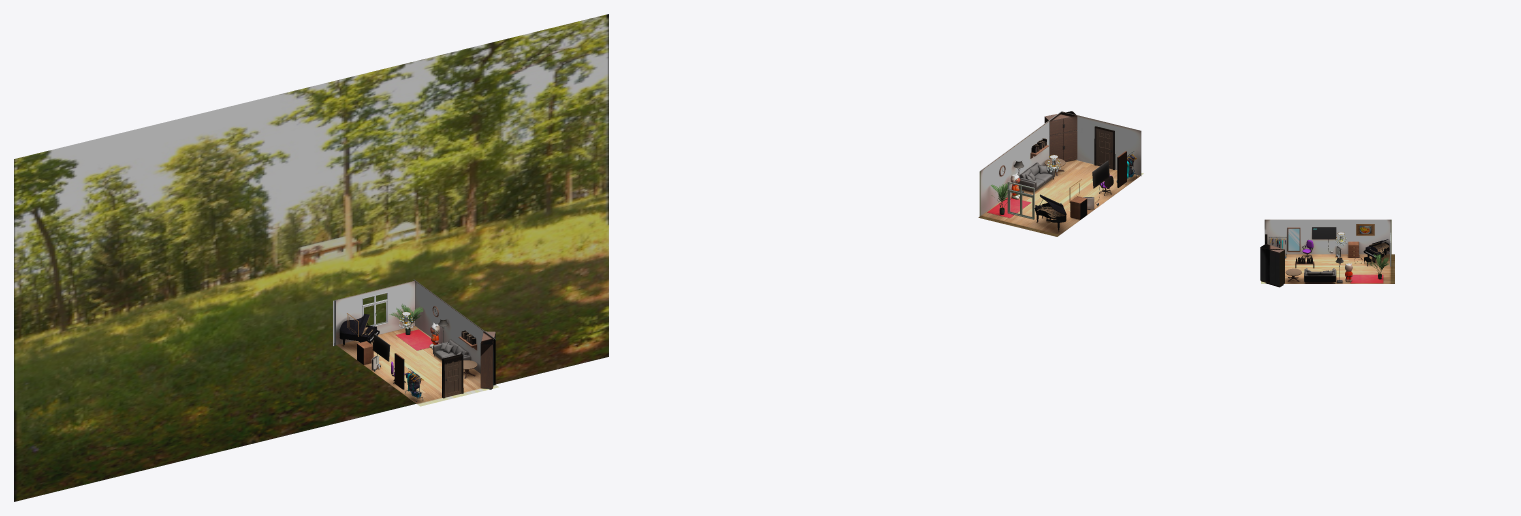
The model's file is Space_3d_room.glb.
3 renders of one model, left to right at view 1: azimuth 30°, elevation 25°; view 2: azimuth 150°, elevation 25°; view 3: azimuth 270°, elevation 25°, orthographic. The views are drawn at different scales.
Parts seen in each view (by area): view 1: forest, floor, wall2, wall4, Door, closet1, piano; view 2: floor, wall2, wall5, closet1, Door, sofa2; view 3: wall1, floor, closet1, piano, sofa2, mirror1, TV, Carpet1.
Part boxes in pixels (x1=…): forest: x1=14, y1=14, x2=608, y2=501; floor: x1=336, y1=326, x2=498, y2=406; wall2: x1=413, y1=279, x2=495, y2=384; wall4: x1=333, y1=281, x2=414, y2=345; Door: x1=442, y1=354, x2=463, y2=398; closet1: x1=480, y1=331, x2=495, y2=389; piano: x1=339, y1=313, x2=379, y2=346; floor: x1=978, y1=160, x2=1143, y2=236; wall2: x1=979, y1=111, x2=1061, y2=216; wall5: x1=1061, y1=111, x2=1141, y2=175; closet1: x1=1044, y1=111, x2=1077, y2=161; Door: x1=1094, y1=126, x2=1115, y2=169; sofa2: x1=1019, y1=162, x2=1054, y2=191; wall1: x1=1264, y1=219, x2=1391, y2=254; floor: x1=1261, y1=254, x2=1394, y2=283; closet1: x1=1260, y1=244, x2=1284, y2=287; piano: x1=1363, y1=239, x2=1389, y2=266; sofa2: x1=1304, y1=268, x2=1336, y2=282; mirror1: x1=1287, y1=227, x2=1300, y2=251; TV: x1=1312, y1=227, x2=1336, y2=253; Carpet1: x1=1350, y1=274, x2=1383, y2=283.
Bounding box in the file's own units: 389 × 214 × 181.
2 materials, 2 textured.
